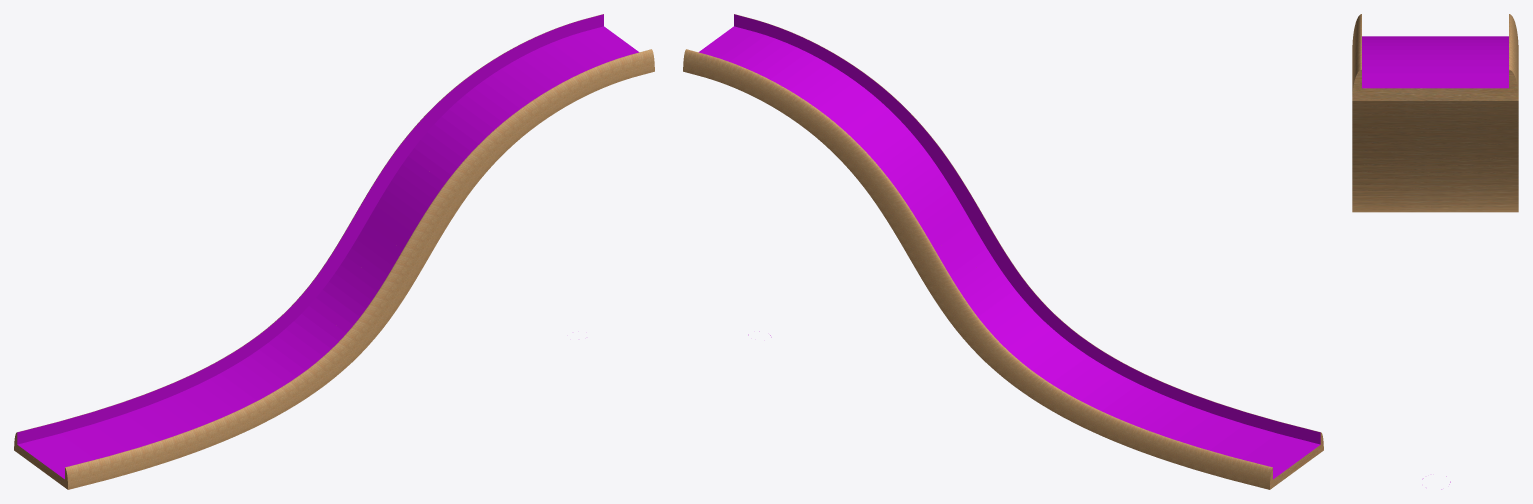
The model's file is cầu.fbx.
3 views of the same model, side by side, from view 1: azimuth 30°, elevation 25°; view 2: azimuth 150°, elevation 25°; view 3: azimuth 270°, elevation 25° (orthographic). The views are drawn at different scales.
Parts seen in each view (by area): view 1: HỒNG; view 2: HỒNG; view 3: HỒNG.
Boxes of the visible parts, x1,y1,x2,y2 form: HỒNG: (14, 14, 654, 489); HỒNG: (683, 14, 1323, 489); HỒNG: (1352, 14, 1518, 489).
Bounding box in the file's own units: 297 × 143 × 47.3.
2 materials, 1 textured.
